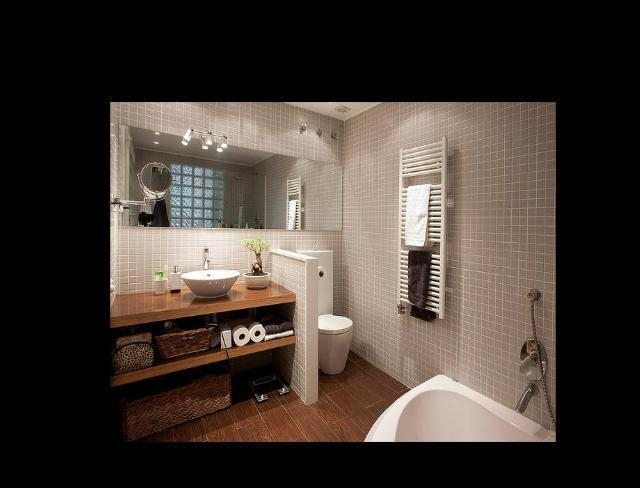Lavamanos: (181, 247, 241, 303)
Sanitario: (300, 283, 358, 383)
